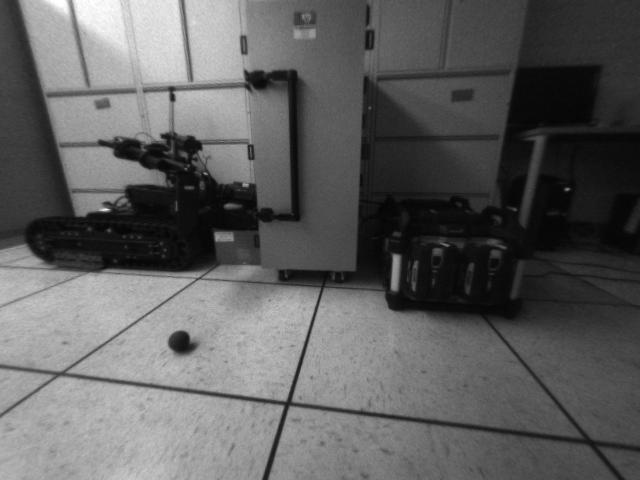dogtoy: (160, 322, 197, 358)
